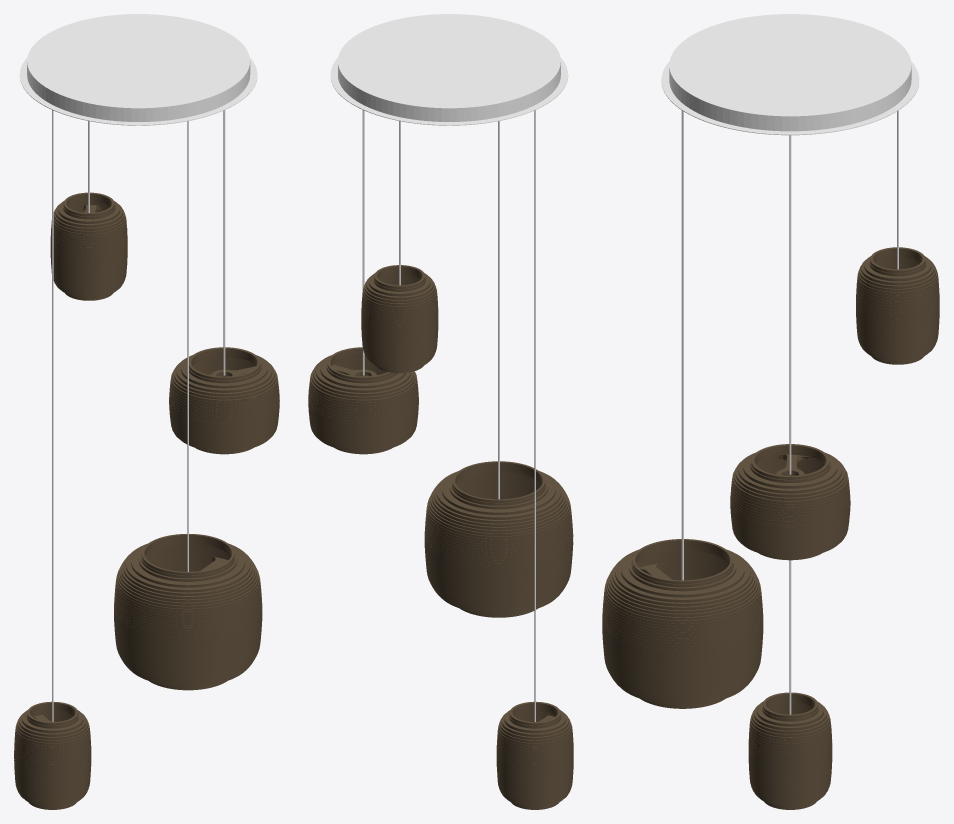
The picture shows the model from 3 angles, left to right: view 1: azimuth 30°, elevation 25°; view 2: azimuth 150°, elevation 25°; view 3: azimuth 270°, elevation 25°; orthographic projection. The views are drawn at different scales.
Bounding box in the file's own units: 0.7375 × 2 × 0.7847.
